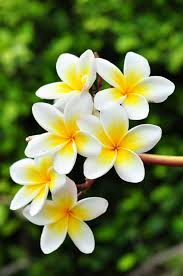frangipani: (97, 51, 177, 120)
